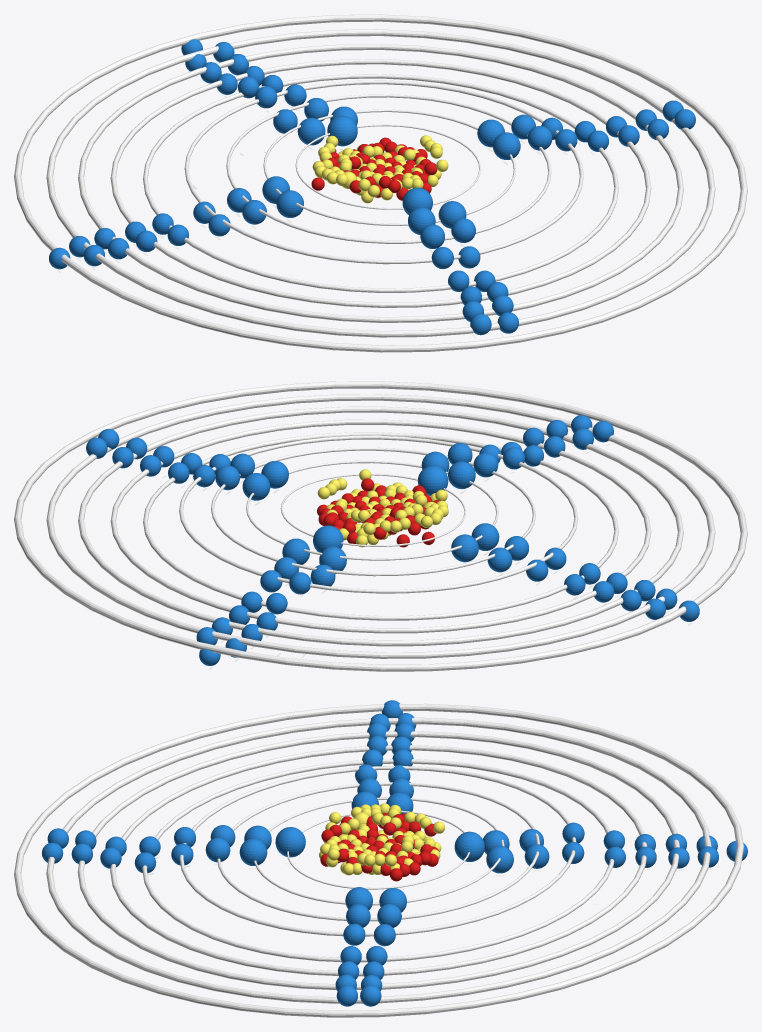
3 renders of one model, top to bottom at view 1: azimuth 30°, elevation 25°; view 2: azimuth 150°, elevation 25°; view 3: azimuth 270°, elevation 25°, orthographic.
Parts seen in each view (by area): view 1: Torus.009, Torus.008, Torus.007, Torus.006, Torus.005, Torus.004, Torus.003, Torus.002, Torus.001, g, g.005, g.003 (+2 smaller); view 2: Torus.009, Torus.008, Torus.007, Torus.006, Torus.005, Torus.004, Torus.003, Torus.002, Torus.001, g.001, g, g.006 (+8 smaller); view 3: Torus.009, Torus.008, Torus.007, Torus.006, Torus.005, Torus.004, Torus.003, Torus.002, g.001, g, Torus.001, g.007 (+1 smaller).
Part boxes in pixels (x1,y1,x2,y2): Torus.009: [14, 14, 747, 352]; Torus.008: [46, 29, 715, 337]; Torus.007: [78, 44, 683, 322]; Torus.006: [110, 59, 651, 307]; Torus.005: [143, 74, 618, 292]; Torus.004: [184, 80, 583, 264]; Torus.003: [226, 94, 551, 243]; Torus.002: [263, 109, 515, 225]; Torus.001: [295, 124, 480, 209]; g: [327, 115, 357, 146]; g.005: [493, 132, 520, 159]; g.003: [276, 190, 303, 217]; Torus.009: [14, 381, 747, 671]; Torus.008: [46, 394, 715, 658]; Torus.007: [78, 406, 683, 646]; Torus.006: [110, 419, 651, 633]; Torus.005: [143, 432, 618, 620]; Torus.004: [179, 435, 578, 593]; Torus.003: [211, 447, 535, 576]; Torus.002: [246, 460, 498, 560]; Torus.001: [280, 473, 465, 546]; g.001: [417, 465, 448, 495]; g: [313, 525, 343, 552]; g.006: [448, 461, 475, 489]; Torus.009: [14, 703, 743, 1017]; Torus.008: [46, 717, 711, 1003]; Torus.007: [77, 731, 679, 989]; Torus.006: [110, 745, 647, 976]; Torus.005: [142, 759, 614, 962]; Torus.004: [179, 766, 576, 936]; Torus.003: [217, 782, 539, 921]; Torus.002: [254, 797, 504, 905]; g.001: [275, 827, 305, 857]; g: [454, 831, 484, 861]; Torus.001: [287, 810, 469, 889]; g.007: [239, 838, 267, 865].
Size of the model in its own units: 24.02 by 2.85 by 23.9.
